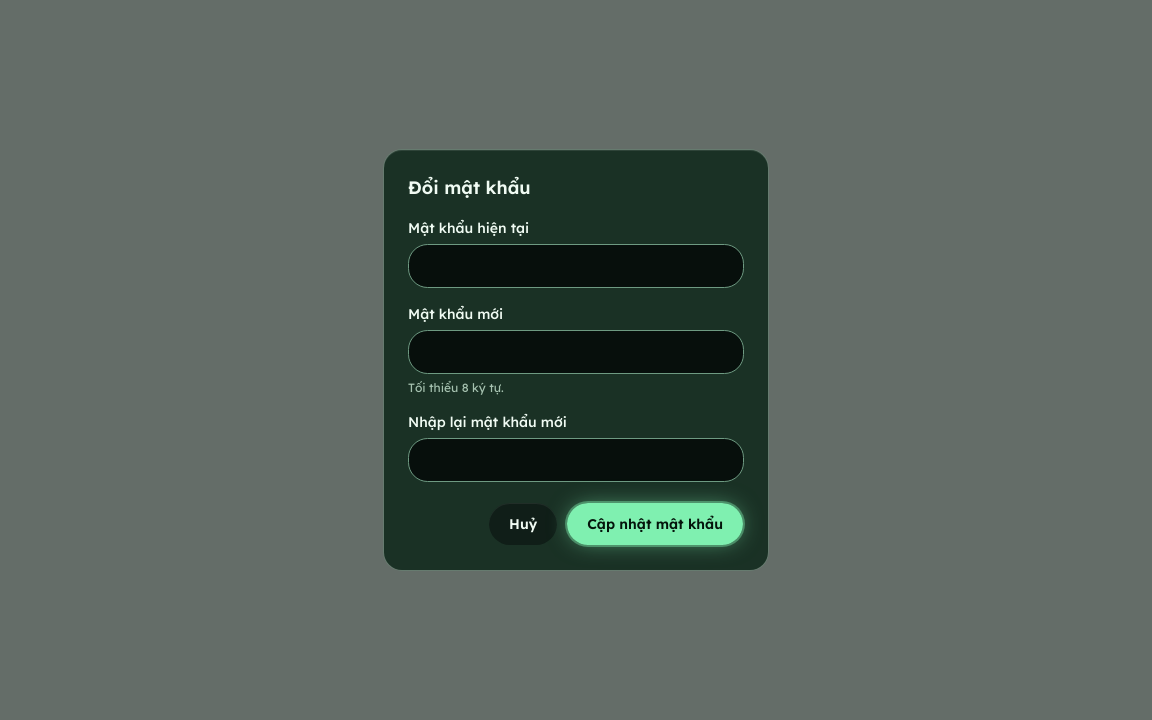
Test: từ chối phía client — KHÔNG lượt mạng nào được phát ra › thiếu mật khẩu hiện tại → lỗi riêng, không gọi Server Action (AC-017)
The image size is (1152, 720).
Type "a-new-password" into the password field labelled "Mật khẩu mới" at (576, 352), box [408, 330, 744, 374]
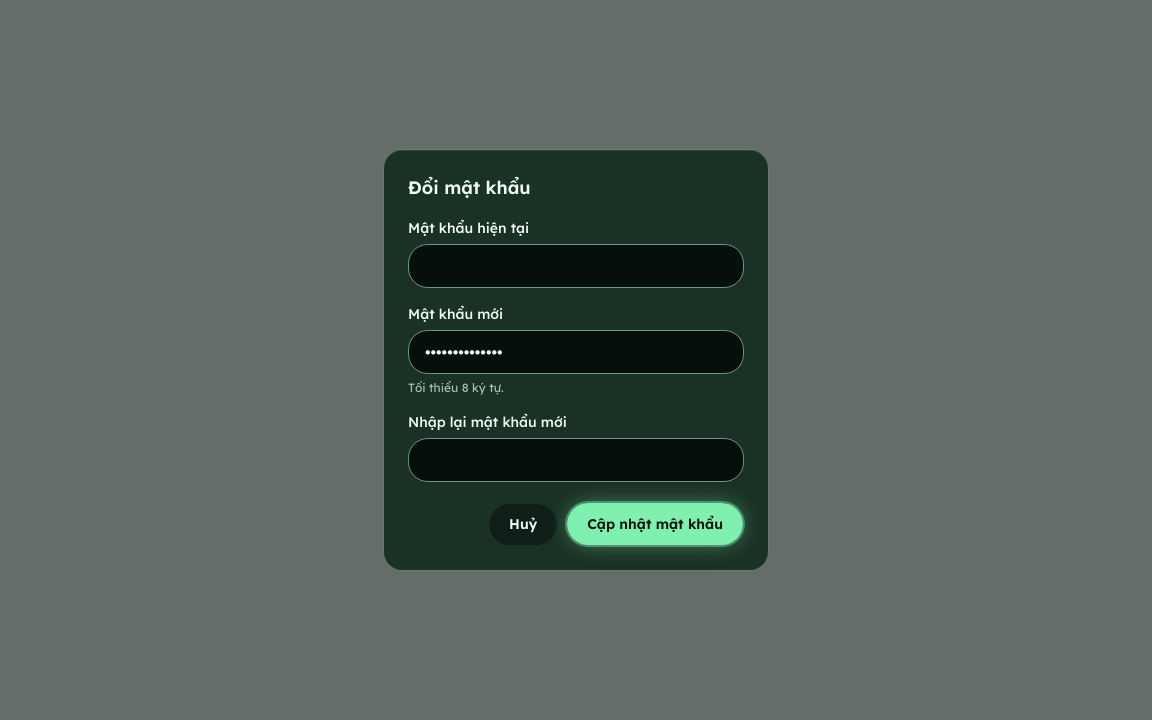
Type "a-new-password" into the password field labelled "Nhập lại mật khẩu mới" at (576, 460), box [408, 438, 744, 482]
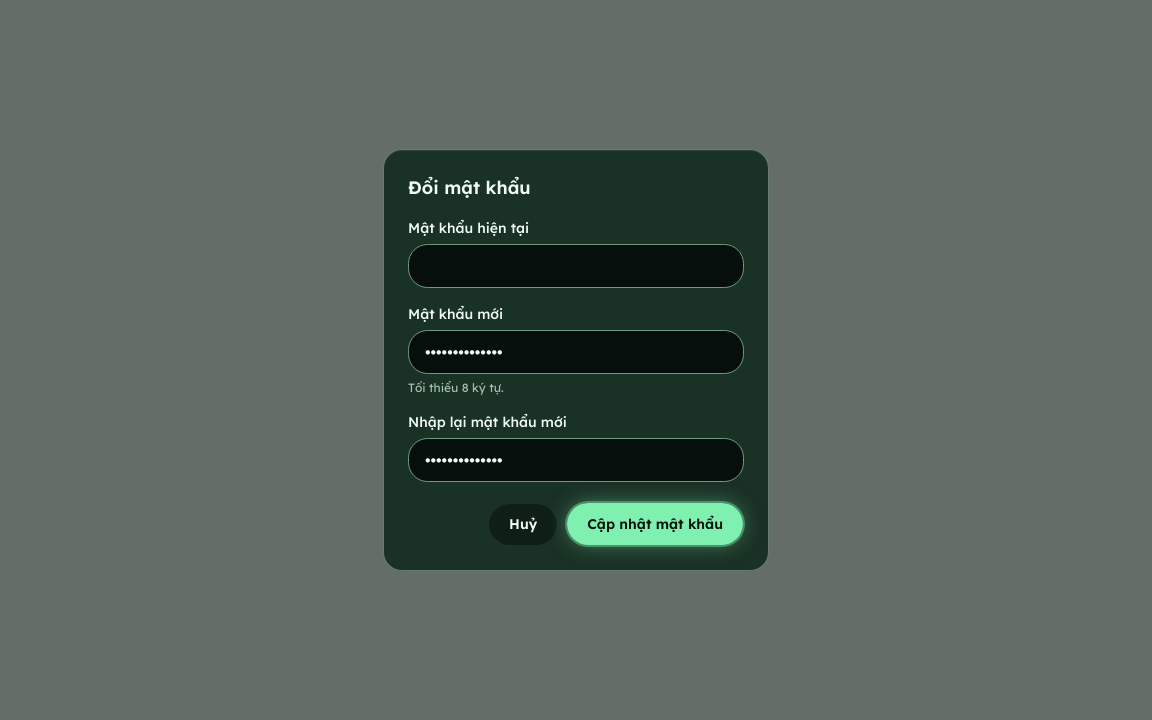
Submit the form, box [408, 218, 744, 546]
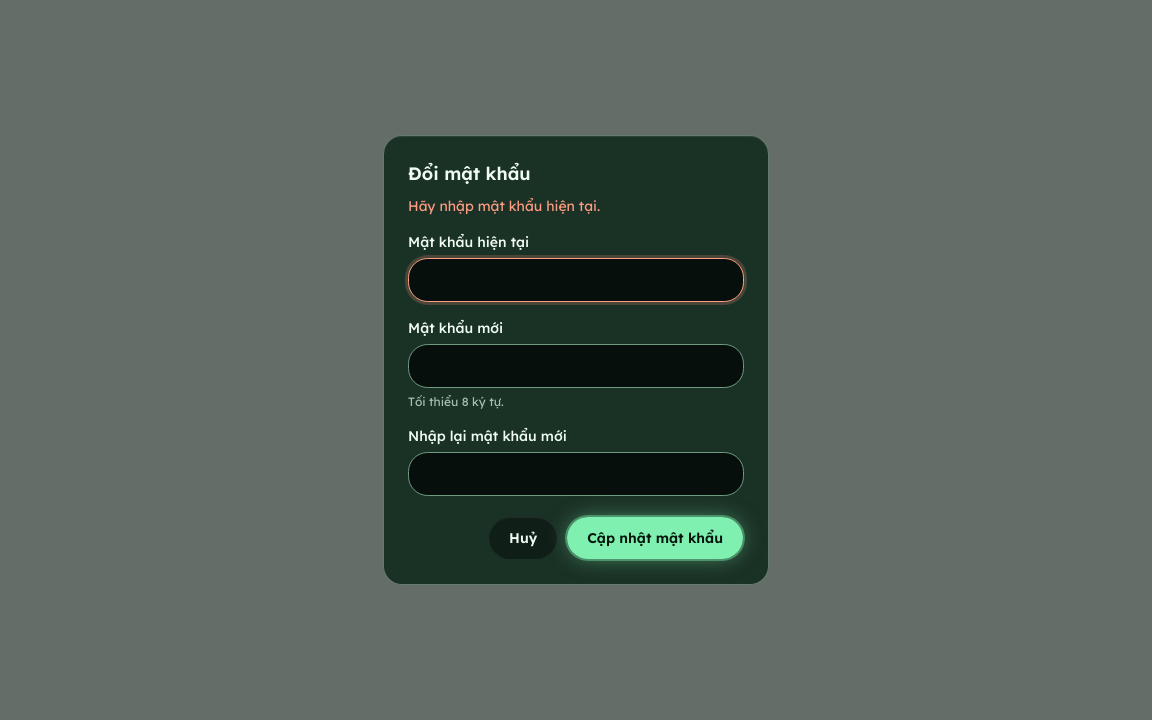
Expected: the message reads "Hãy nhập mật khẩu hiện tại.", [408, 197, 600, 215]
